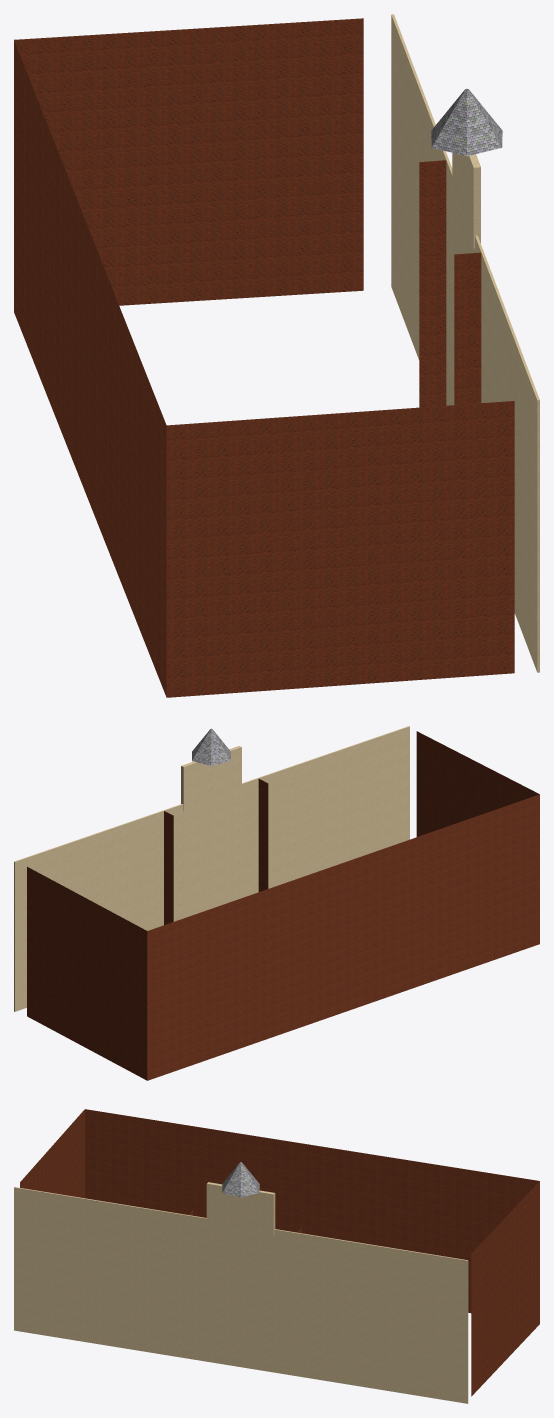
3 views of the same model, one above another, from view 1: azimuth 30°, elevation 25°; view 2: azimuth 150°, elevation 25°; view 3: azimuth 270°, elevation 25° (orthographic). The views are drawn at different scales.
Parts seen in each view (by area): view 1: bldg_22966134_landmark; view 2: bldg_22966134_landmark; view 3: bldg_22966134_landmark.
Part boxes in pixels (x1,y1,x2,y2): bldg_22966134_landmark: (14,14,539,697); bldg_22966134_landmark: (14,726,539,1080); bldg_22966134_landmark: (14,1109,539,1403).
Bounding box in the file's own units: 50.03 × 31.5 × 73.31.
Materials: 6 (4 with a texture image).
